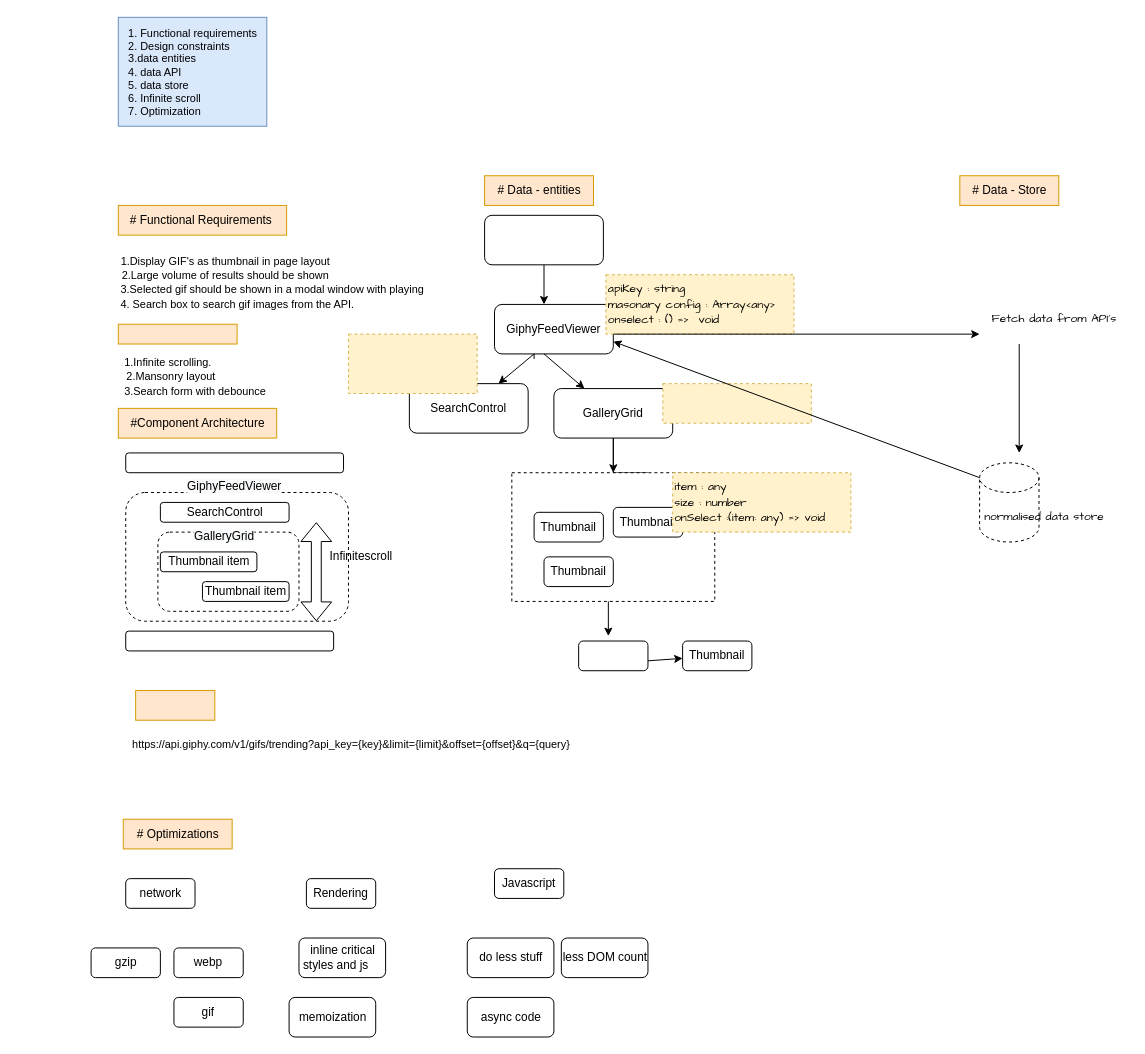
The diagram is 1145 pixels wide and 1054 high, and some of its shapes have lost their labels. Here are the shapes that lost their labels. From the top down, the centre of each, then its label:
point (543, 239): App
point (177, 333): #Design constraints
point (412, 363): value : string setvalue :() => void onSubmit: () => void
point (736, 403): sizes : Array<any> children : ReactNodes
point (234, 462): HeaderLogo
point (229, 640): Footer
point (613, 655): modal
point (175, 705): #Data API
